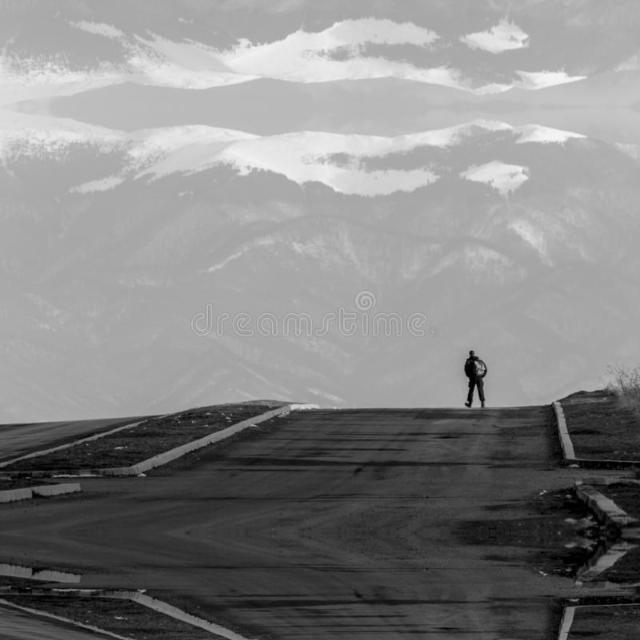person: (456, 346, 489, 414)
